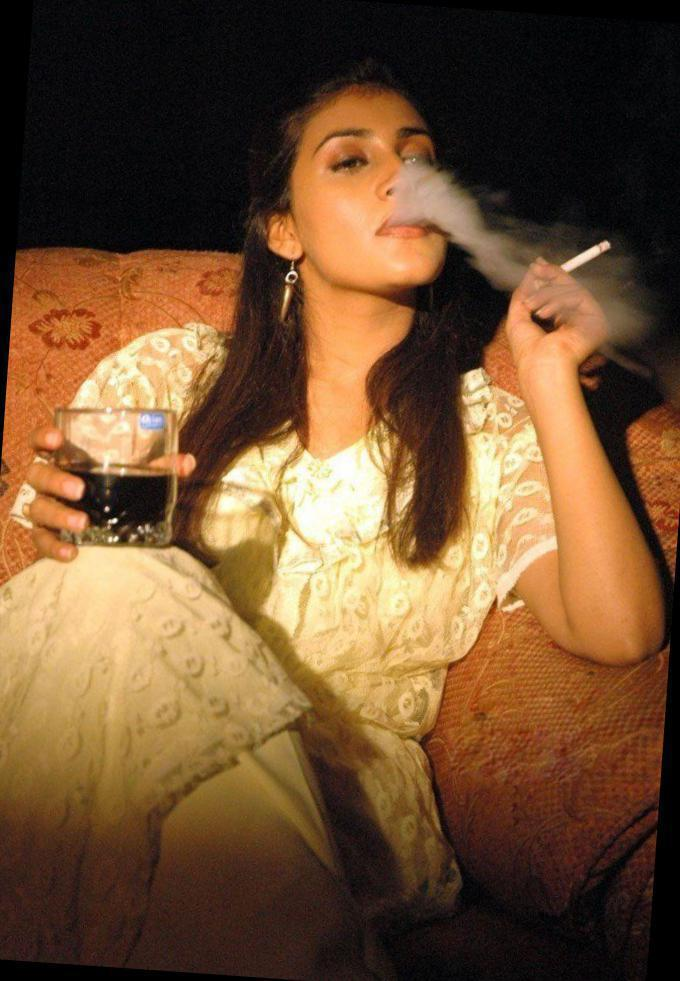Drunk: (305, 104, 450, 286)
